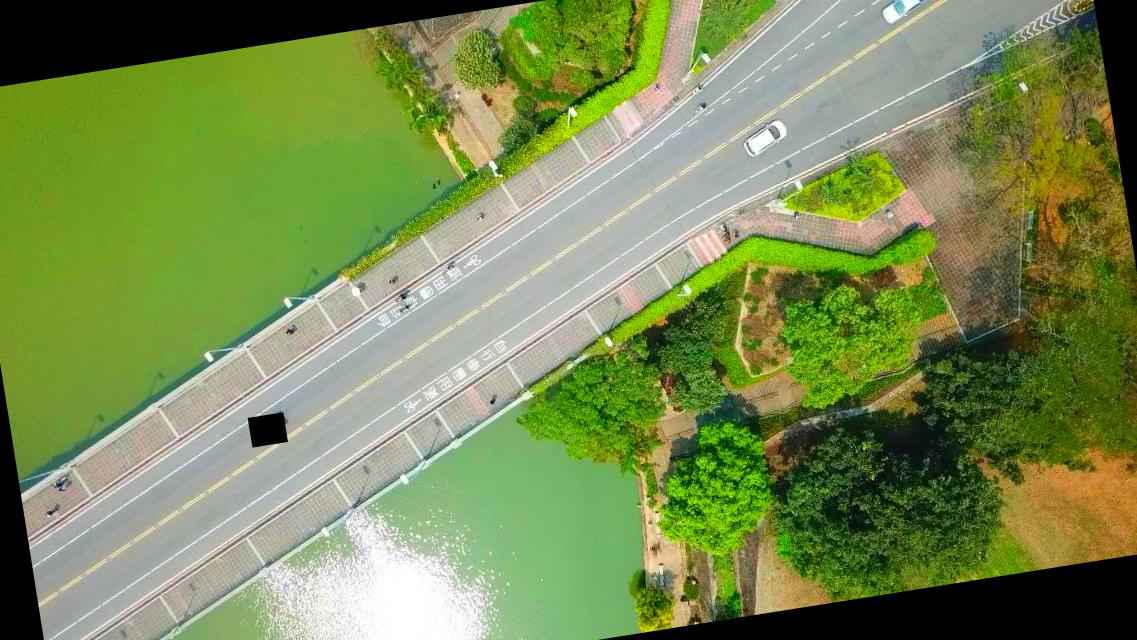vehicle: (740, 116, 791, 158), (877, 0, 934, 25)
